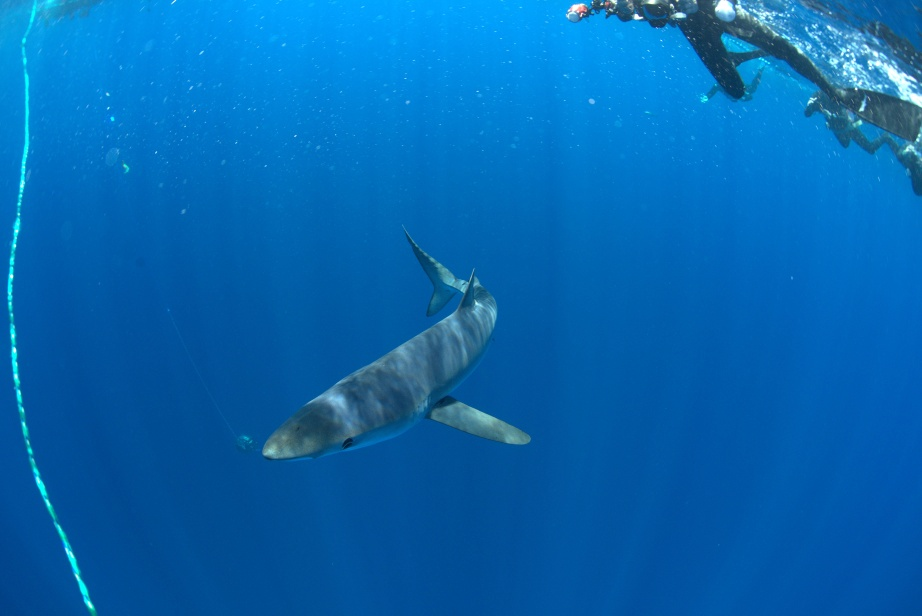Azul: (221, 203, 571, 479)
